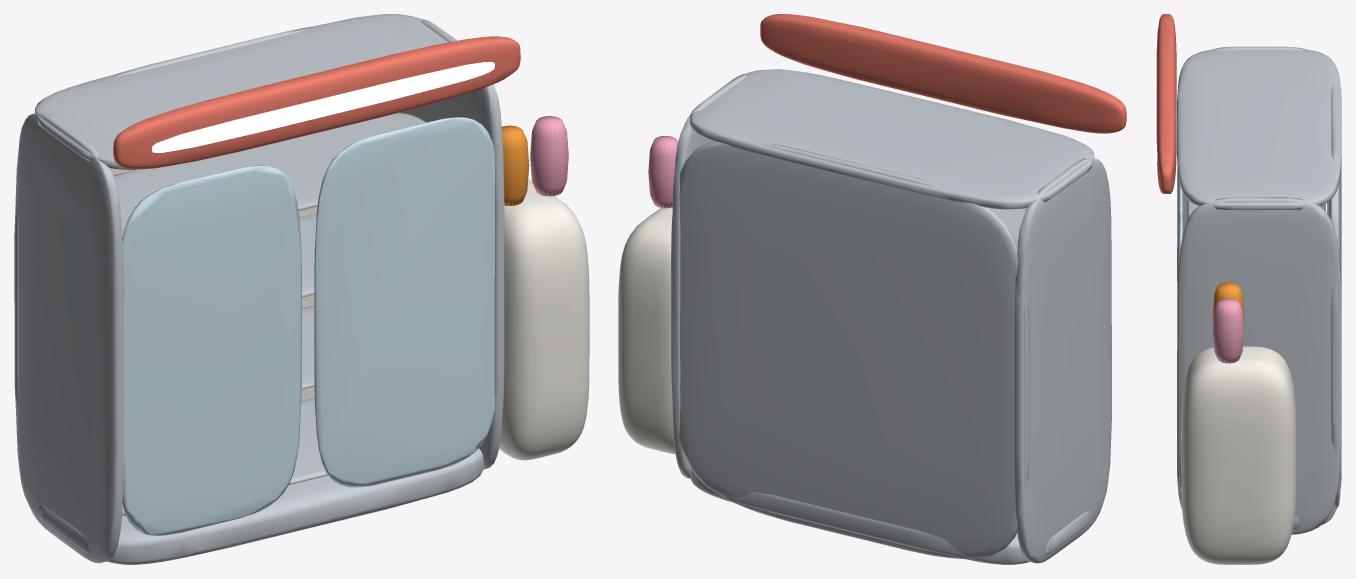
File: vitrina_bebidas_3.glb
3 views of the same model, side by side, from view 1: azimuth 30°, elevation 25°; view 2: azimuth 150°, elevation 25°; view 3: azimuth 270°, elevation 25° (orthographic). The views are drawn at different scales.
Parts seen in each view (by area): view 1: puerta vidrio.001, puerta vidrio, costado.004, dispensador, techo.001, cabecera.001, piso.004, repisa.010, costado.005, luz, tanque 1, fondo.001 (+4 smaller); view 2: fondo.001, costado.004, techo.001, cabecera.001, dispensador, piso.004, costado.005, tanque 1; view 3: costado.005, techo.001, dispensador, cabecera.001, fondo.001, tanque 1, costado.004, tanque 0, piso.004, puerta vidrio.001, luz.
Boxes of the visible parts, box(x1,y1,x2,y2) form: puerta vidrio.001: box(314, 117, 494, 487); puerta vidrio: box(122, 165, 301, 535); costado.004: box(15, 113, 123, 563); dispensador: box(499, 180, 589, 460); techo.001: box(35, 14, 448, 170); cabecera.001: box(113, 36, 520, 169); piso.004: box(38, 448, 484, 564); repisa.010: box(113, 113, 426, 237); costado.005: box(400, 19, 504, 469); luz: box(152, 62, 494, 152); tanque 1: box(530, 116, 568, 196); fondo.001: box(14, 26, 400, 411); fondo.001: box(671, 141, 1029, 558); costado.004: box(1014, 158, 1111, 563); techo.001: box(690, 69, 1094, 209); cabecera.001: box(760, 14, 1126, 133); dispensador: box(618, 207, 675, 453); piso.004: box(690, 469, 1091, 564); costado.005: box(672, 74, 746, 478); tanque 1: box(648, 136, 678, 208); costado.005: box(1177, 197, 1341, 534); techo.001: box(1177, 50, 1341, 210); dispensador: box(1181, 346, 1296, 564); cabecera.001: box(1156, 14, 1176, 193); fondo.001: box(1327, 85, 1341, 507); tanque 1: box(1212, 298, 1243, 363); costado.004: box(1177, 46, 1341, 291); tanque 0: box(1212, 282, 1243, 321); piso.004: box(1177, 428, 1341, 528); puerta vidrio.001: box(1178, 182, 1183, 491); luz: box(1155, 34, 1157, 174).
Bounding box in the file's own units: 2.26 × 2.02 × 0.905.
